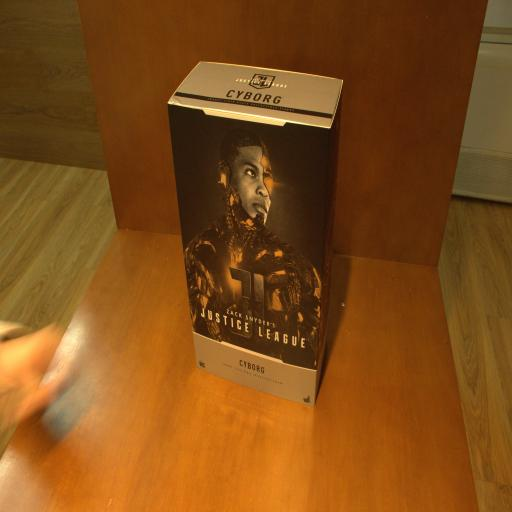Cyborg: (167, 61, 343, 408)
